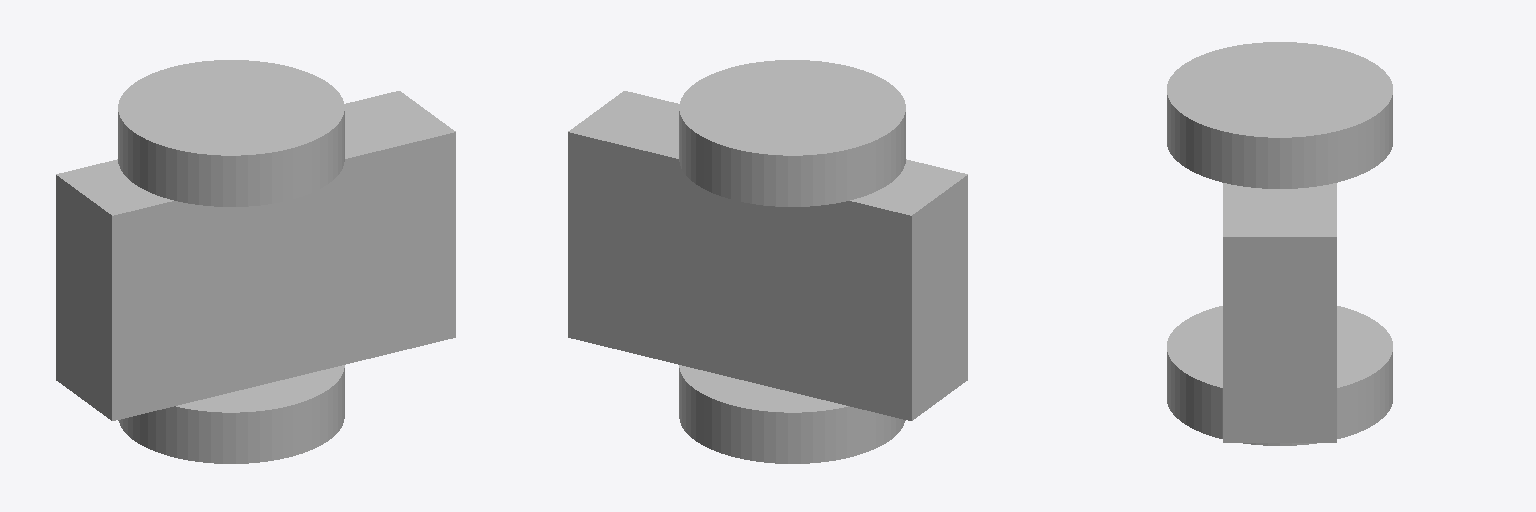
Rendered from robot-with-normals.obj.
3 views of the same model, side by side, from view 1: azimuth 30°, elevation 25°; view 2: azimuth 150°, elevation 25°; view 3: azimuth 270°, elevation 25° (orthographic).
Visible parts, largest first — view 1: Box, Cylinder001, Cylinder; view 2: Box, Cylinder001, Cylinder; view 3: Box, Cylinder001, Cylinder.
Part boxes in pixels (bbox=[...]): Box: bbox=[56, 91, 455, 420]; Cylinder001: bbox=[118, 60, 344, 206]; Cylinder: bbox=[118, 365, 344, 463]; Box: bbox=[568, 91, 967, 420]; Cylinder001: bbox=[679, 60, 905, 206]; Cylinder: bbox=[679, 365, 905, 463]; Box: bbox=[1223, 183, 1336, 442]; Cylinder001: bbox=[1167, 42, 1392, 188]; Cylinder: bbox=[1167, 306, 1392, 445].
Size of the model in its own units: 70 by 60 by 39.94.